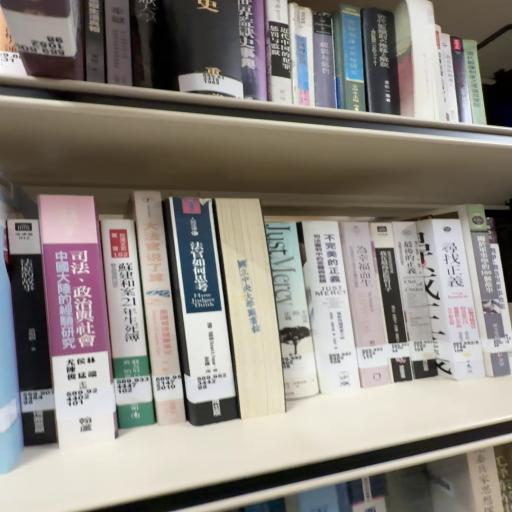backward: (216, 202, 285, 429)
book: (37, 198, 116, 455), (171, 200, 243, 435), (102, 215, 158, 440), (132, 191, 182, 431), (269, 223, 325, 415), (412, 1, 448, 122), (269, 2, 297, 108)
